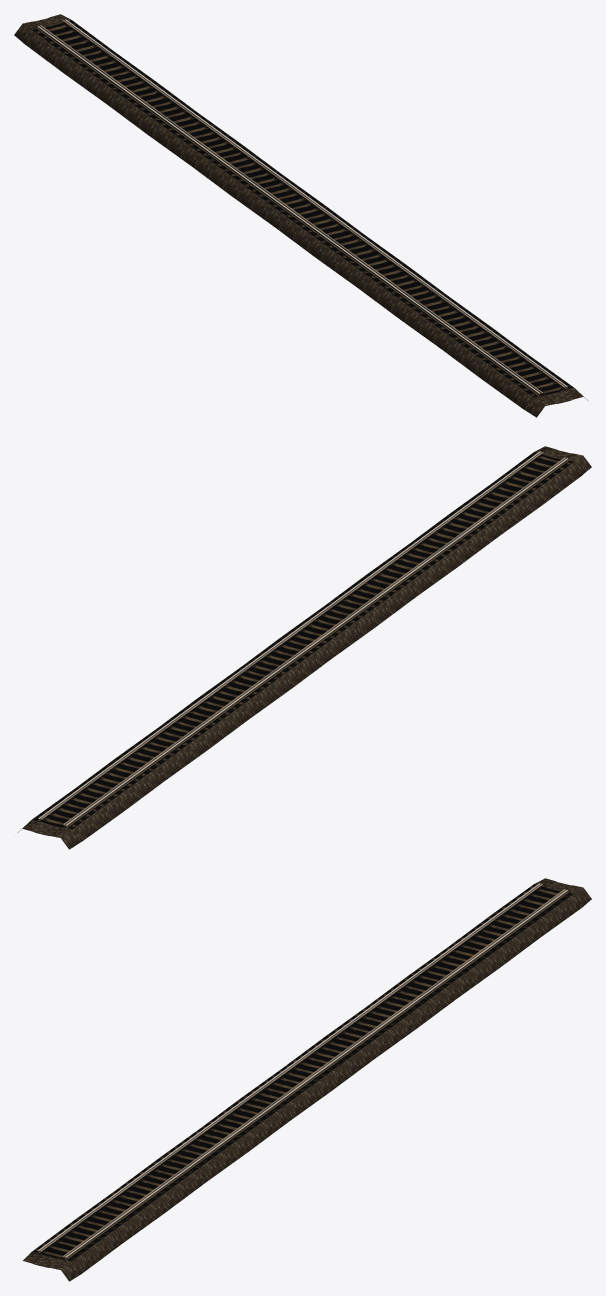
File: KIN_1RAIL_150.glb
3 views of the same model, one above another, from view 1: azimuth 30°, elevation 25°; view 2: azimuth 150°, elevation 25°; view 3: azimuth 330°, elevation 25° (orthographic).
Visible parts, largest first — view 1: obj4, R000_RG_R3, R000_RG_L3; view 2: obj4, R000_RG_R3, R000_RG_L3; view 3: obj4, R000_RG_L3, R000_RG_R3.
Part boxes in pixels (x1,y1,x2,y2): obj4: [14, 14, 587, 417]; R000_RG_R3: [40, 25, 542, 393]; R000_RG_L3: [62, 20, 564, 387]; obj4: [18, 446, 591, 849]; R000_RG_R3: [63, 457, 565, 826]; R000_RG_L3: [40, 452, 543, 820]; obj4: [23, 878, 591, 1281]; R000_RG_L3: [63, 889, 565, 1257]; R000_RG_R3: [40, 884, 542, 1251].
Size of the model in its own units: 10.09 by 2.22 by 156.
6 materials, 5 textured.
